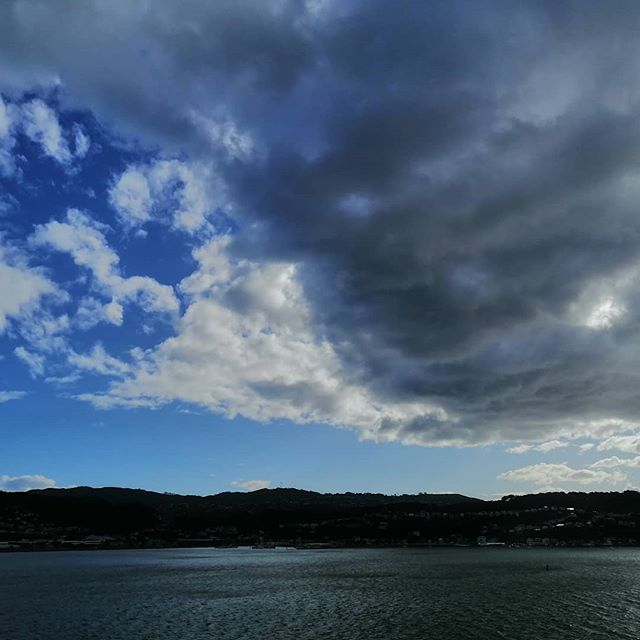sea: (1, 549, 640, 640)
sky: (1, 1, 640, 470)
